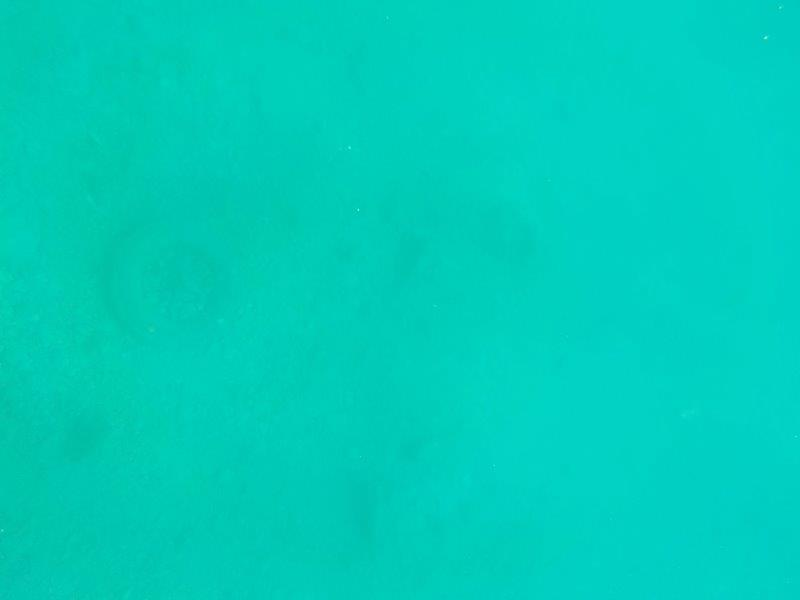tire: (105, 211, 250, 356)
